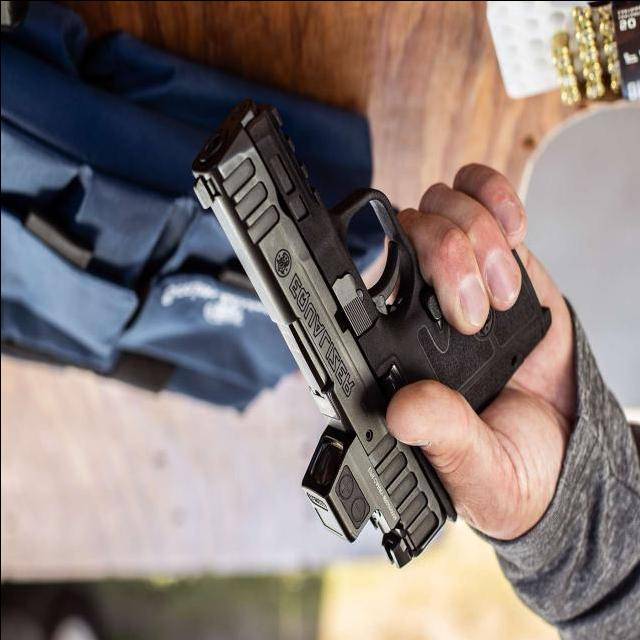pistol: (163, 101, 549, 590)
scope: (301, 423, 385, 565)
